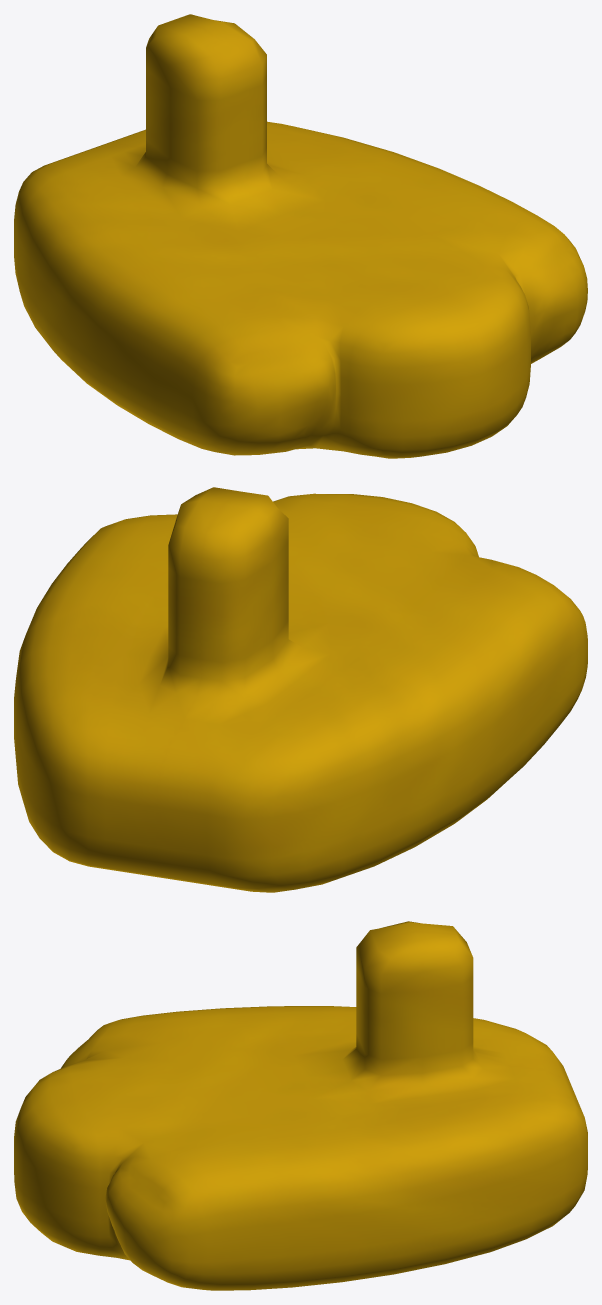
The model's file is pieder.obj.
3 views of the same model, one above another, from view 1: azimuth 30°, elevation 25°; view 2: azimuth 150°, elevation 25°; view 3: azimuth 270°, elevation 25° (orthographic). The views are drawn at different scales.
Parts seen in each view (by area): view 1: Linux_Penguin__Left_Leg_; view 2: Linux_Penguin__Left_Leg_; view 3: Linux_Penguin__Left_Leg_.
Part boxes in pixels (<box>): Linux_Penguin__Left_Leg_: <box>14,14,587,458</box>; Linux_Penguin__Left_Leg_: <box>14,487,587,892</box>; Linux_Penguin__Left_Leg_: <box>14,921,587,1290</box>.
Bounding box in the file's own units: 9.47 × 6.22 × 11.89.
Materials: 1 (1 with a texture image).
